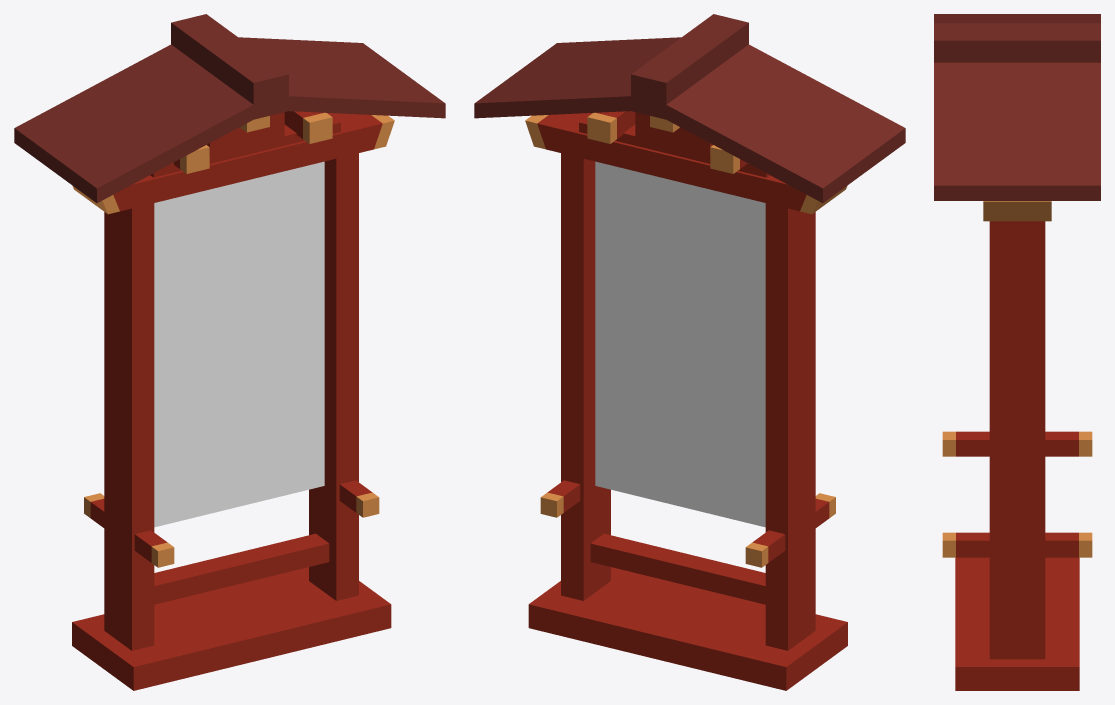
The model's file is Statue_2.fbx.
3 renders of one model, left to right at view 1: azimuth 30°, elevation 25°; view 2: azimuth 150°, elevation 25°; view 3: azimuth 270°, elevation 25°, orthographic.
Visible parts, largest first — view 1: Statue_2; view 2: Statue_2; view 3: Statue_2.
Part boxes in pixels (<box>): Statue_2: <box>14,14,445,690</box>; Statue_2: <box>474,14,905,690</box>; Statue_2: <box>934,14,1100,690</box>.
Size of the model in its own units: 140 by 226 by 57.37.
